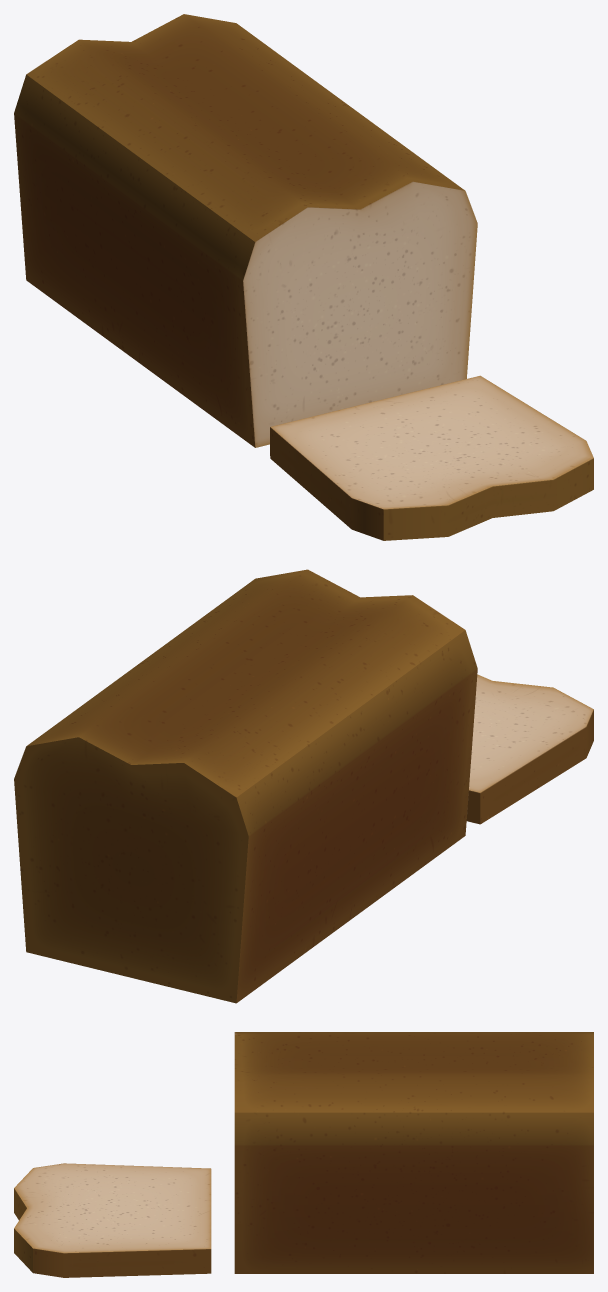
Rendered from Bread.fbx.
3 renders of one model, top to bottom at view 1: azimuth 30°, elevation 25°; view 2: azimuth 150°, elevation 25°; view 3: azimuth 270°, elevation 25°, orthographic. The views are drawn at different scales.
Parts seen in each view (by area): view 1: pCube1, pCube2; view 2: pCube1, pCube2; view 3: pCube1, pCube2.
Boxes of the visible parts, x1,y1,x2,y2 form: pCube1: (14,14,477,447); pCube2: (270,375,593,540); pCube1: (14,569,477,1003); pCube2: (466,674,593,824); pCube1: (234,1032,593,1273); pCube2: (14,1163,211,1277).
Size of the model in its own units: 5.27 by 4.88 by 14.36.
Materials: 1 (1 with a texture image).
